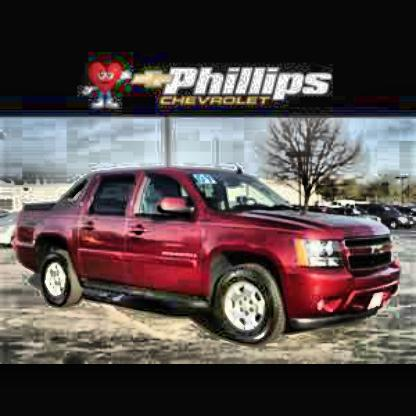Chevrolet Avalanche Crew Cab 2012: (22, 173, 408, 350)
